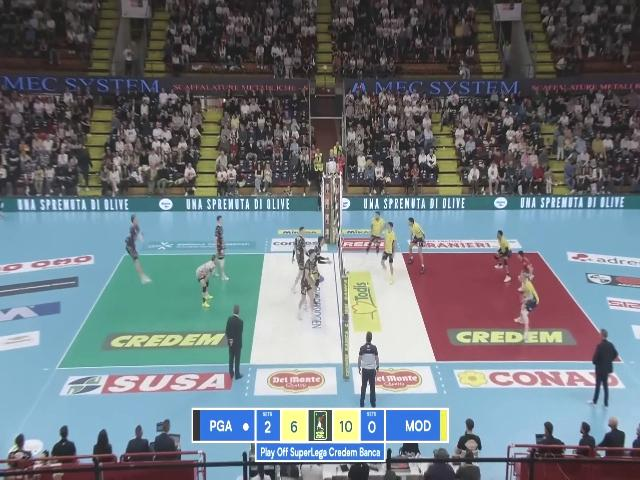volleyball court: (52, 250, 623, 368)
